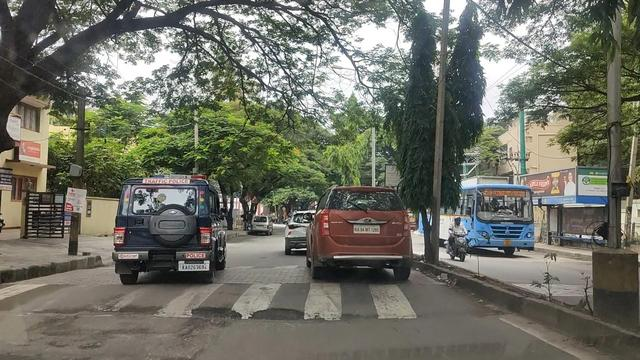LMV: (119, 178, 210, 279), (320, 188, 408, 272)
RoadDamages: (26, 313, 117, 355), (147, 319, 199, 360), (251, 305, 315, 325), (194, 302, 243, 324)
SpeedBump: (12, 270, 448, 321)
